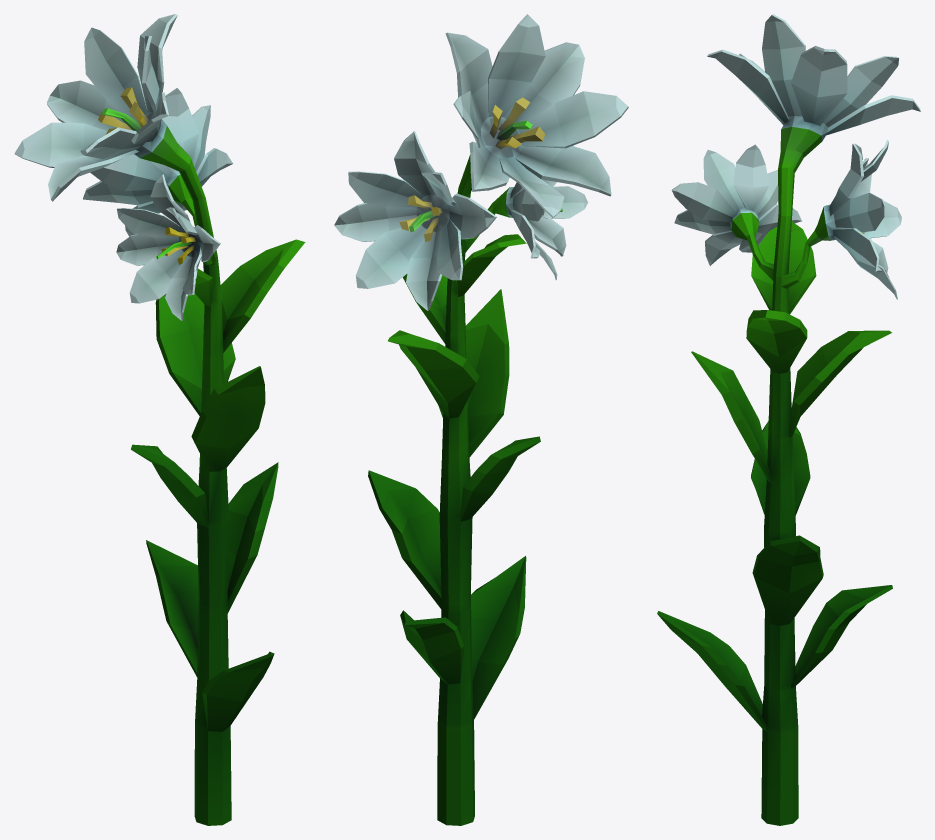
The model's file is lilia1.3.glb.
The picture shows the model from 3 angles, left to right: view 1: azimuth 30°, elevation 25°; view 2: azimuth 150°, elevation 25°; view 3: azimuth 270°, elevation 25°; orthographic projection. The views are drawn at different scales.
Visible parts, largest first — view 1: lilia1.3; view 2: lilia1.3; view 3: lilia1.3.
Boxes of the visible parts, left/top/right/bottom form: lilia1.3: left=14, top=14, right=305, bottom=825; lilia1.3: left=334, top=14, right=628, bottom=825; lilia1.3: left=657, top=14, right=920, bottom=825.
Size of the model in its own units: 0.5514 by 1.74 by 0.5397.
